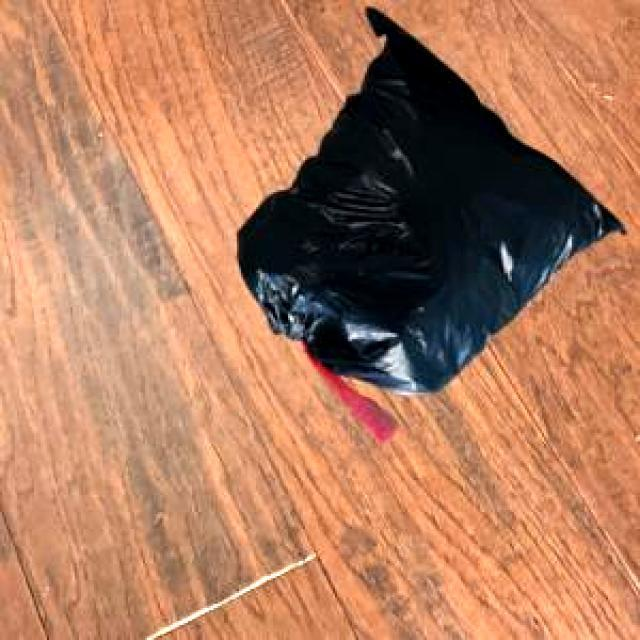Bolsa-de-plastico: (237, 7, 620, 405)
